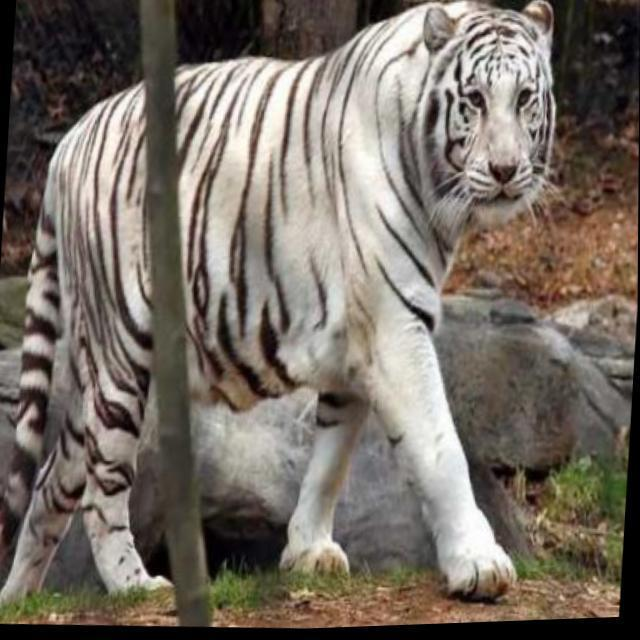tiger: (0, 0, 564, 612)
